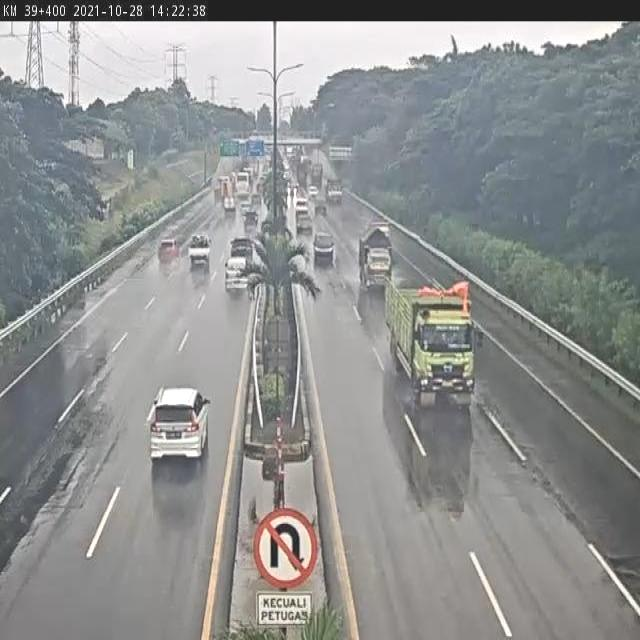Car: (147, 383, 208, 467), (224, 254, 252, 294), (188, 234, 212, 269), (312, 232, 336, 266), (230, 236, 254, 260), (296, 203, 313, 236), (158, 237, 179, 263), (243, 207, 259, 232), (239, 200, 251, 216), (308, 185, 318, 199), (282, 169, 290, 183)
Truck: (384, 274, 476, 408), (358, 216, 396, 286), (326, 178, 344, 207)
